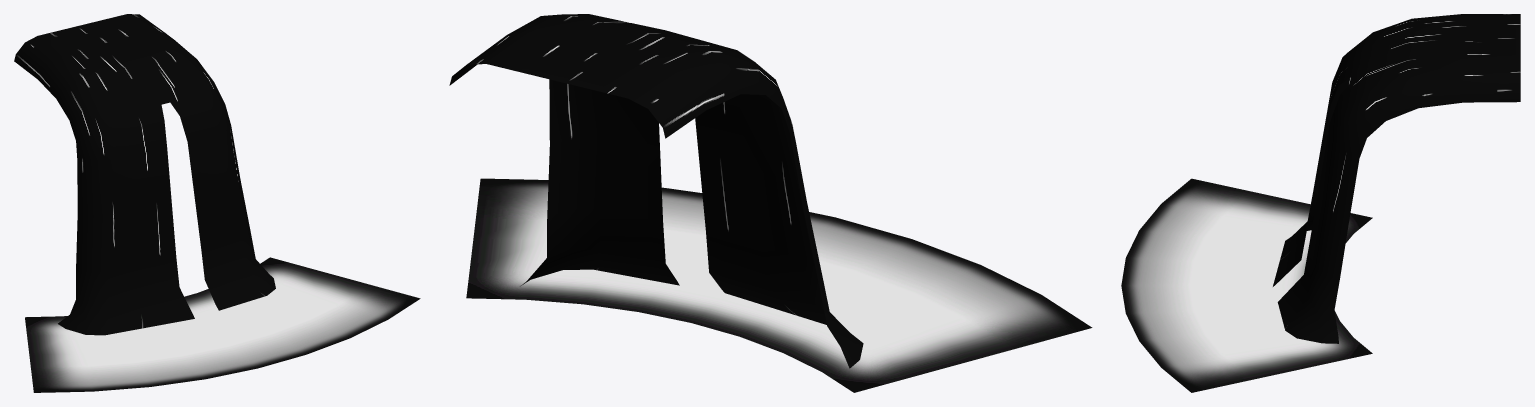
File: P_WaterfallSplit2.obj
The picture shows the model from 3 angles, left to right: view 1: azimuth 30°, elevation 25°; view 2: azimuth 150°, elevation 25°; view 3: azimuth 270°, elevation 25°; orthographic projection. The views are drawn at different scales.
Size of the model in its own units: 12.81 by 6.79 by 10.08.
